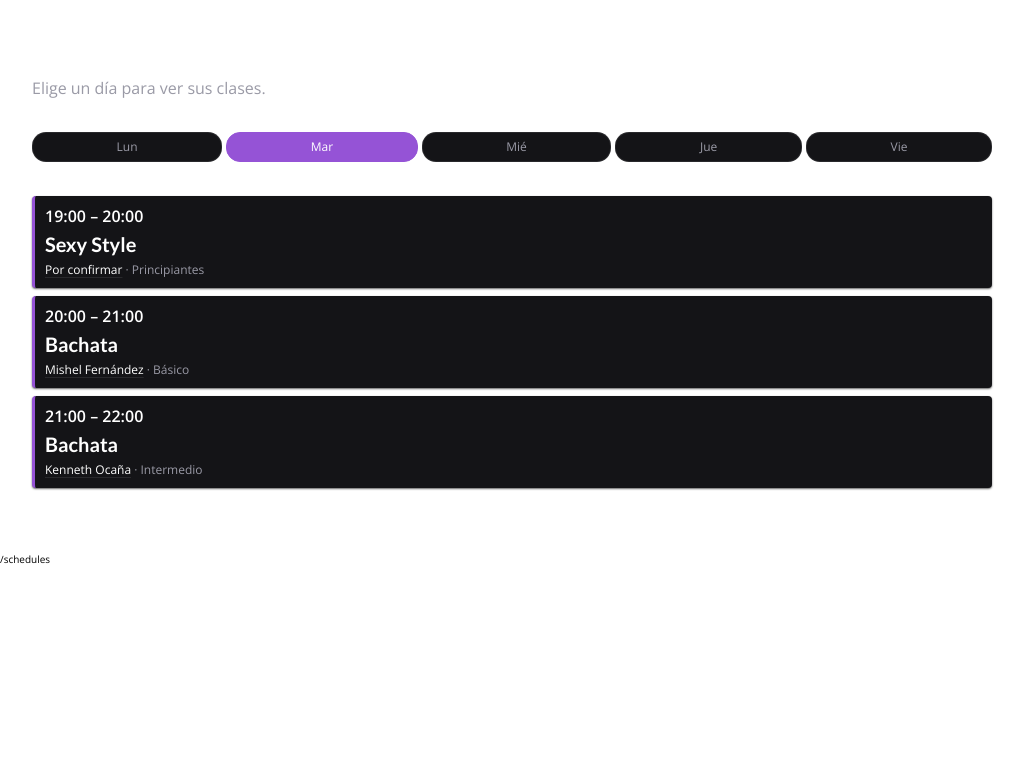
Test: Schedules opening a teacher over the schedule › closes a profile opened from the schedule by going back, on the same day
Click the button named "Viernes" at coordinates (899, 147), box [806,132,992,162]
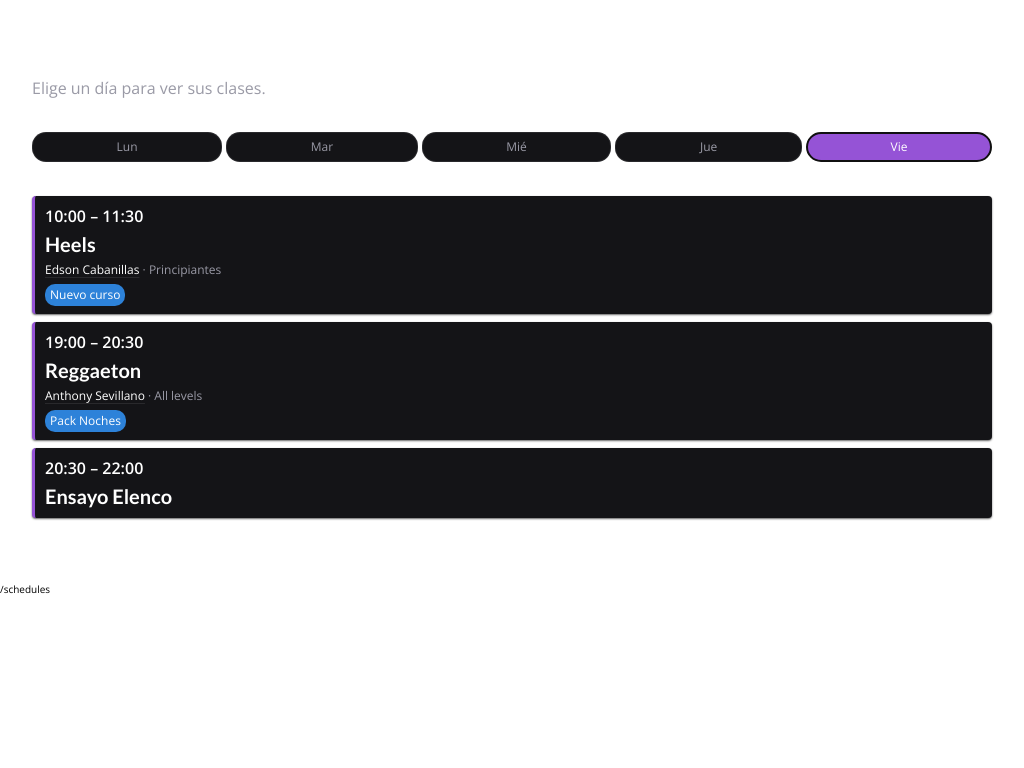
Click the link "Edson Cabanillas" at coordinates (92, 270), box [45,261,140,278]
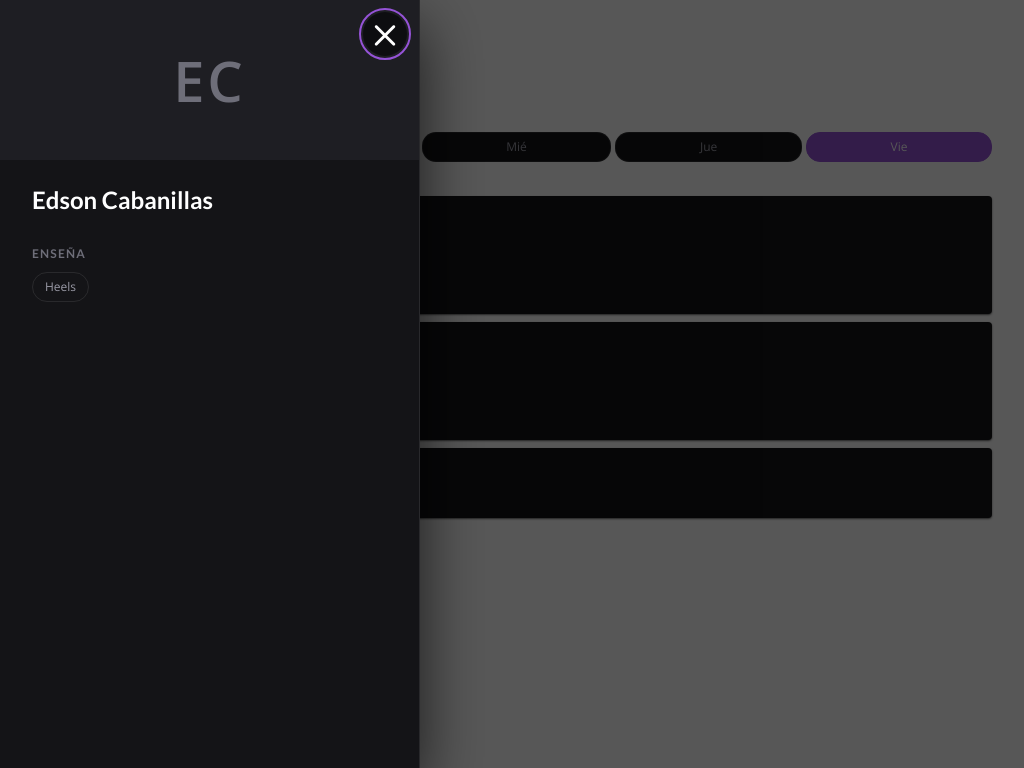
Now the dialog is shown, box [0,0,420,767]
Click the button named "Cerrar" at coordinates (385, 34), box [363,12,407,56]
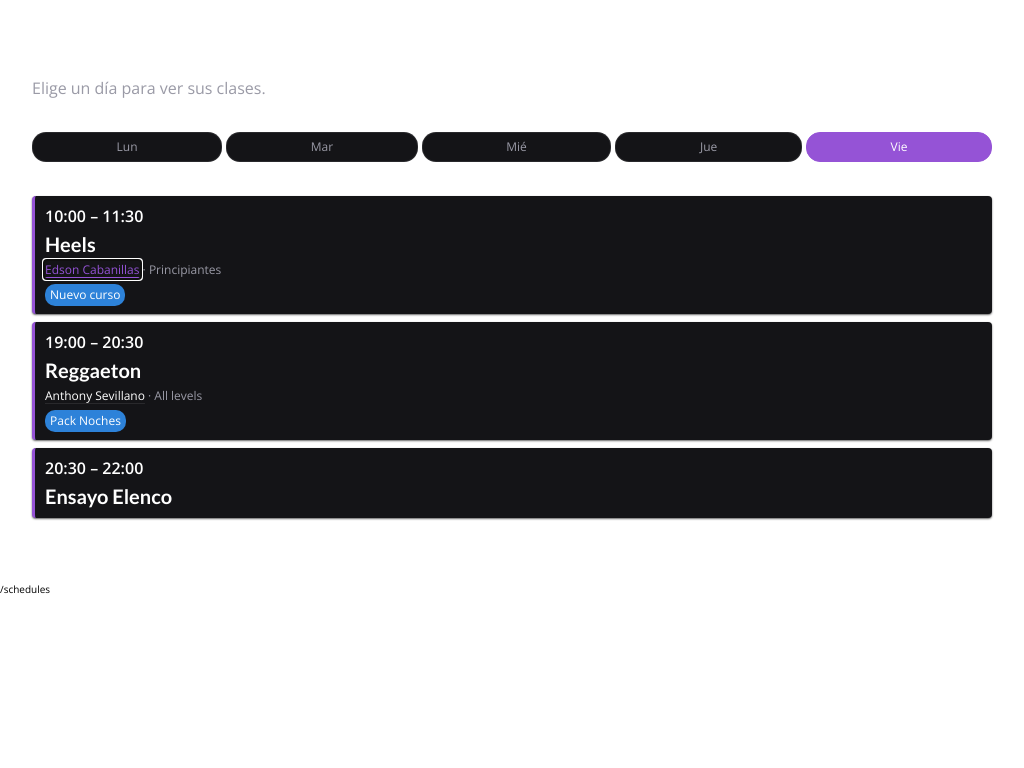
Now the dialog is gone
Now the text with test id "location" reads "/schedules", box [0,582,50,596]
